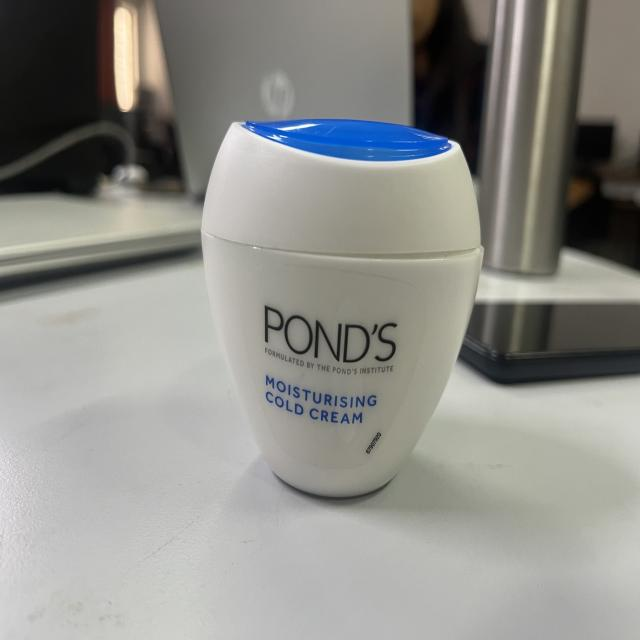L1: (186, 107, 210, 113)
